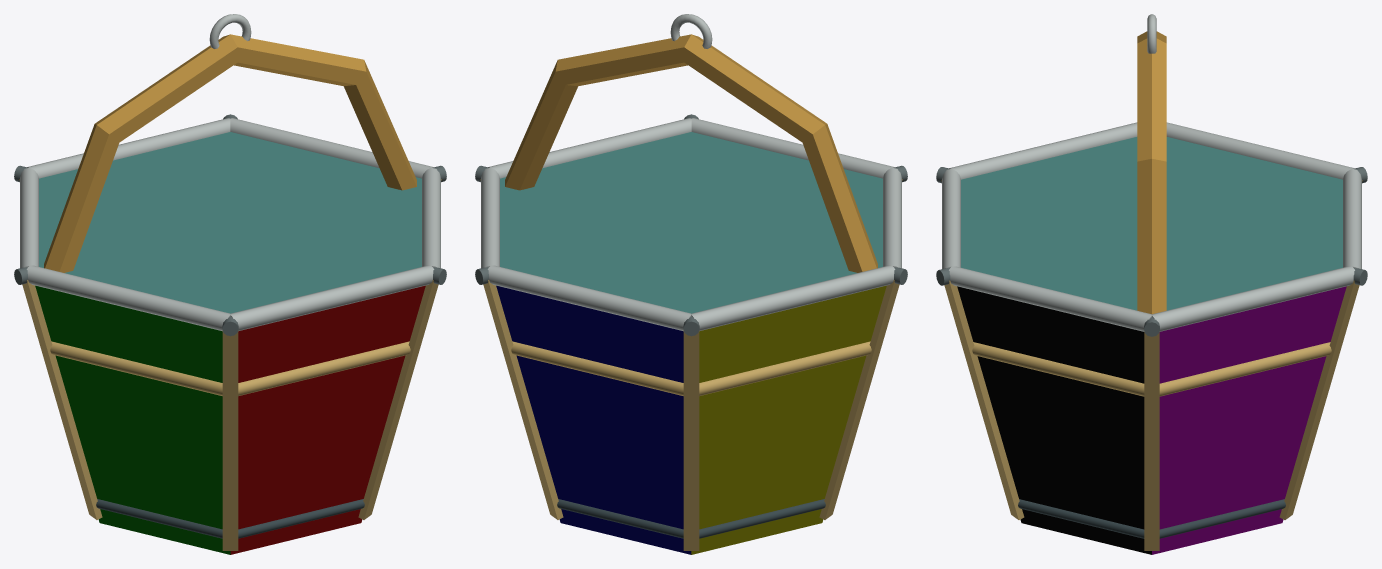
Rendered from BUCKET.glb.
3 renders of one model, left to right at view 1: azimuth 30°, elevation 25°; view 2: azimuth 150°, elevation 25°; view 3: azimuth 270°, elevation 25°, orthographic.
Parts seen in each view (by area): view 1: BUCKET | archived geometry, BUCKET | folded rim, webbing and suspension fittings; view 2: BUCKET | archived geometry, BUCKET | folded rim, webbing and suspension fittings; view 3: BUCKET | archived geometry, BUCKET | folded rim, webbing and suspension fittings.
Part boxes in pixels (bbox=[...]): BUCKET | archived geometry: bbox=[35, 34, 425, 554]; BUCKET | folded rim, webbing and suspension fittings: bbox=[14, 14, 446, 550]; BUCKET | archived geometry: bbox=[496, 34, 886, 554]; BUCKET | folded rim, webbing and suspension fittings: bbox=[475, 14, 907, 550]; BUCKET | archived geometry: bbox=[957, 31, 1346, 554]; BUCKET | folded rim, webbing and suspension fittings: bbox=[936, 14, 1367, 550].
Size of the model in its own units: 1.39 by 1.49 by 1.23.
